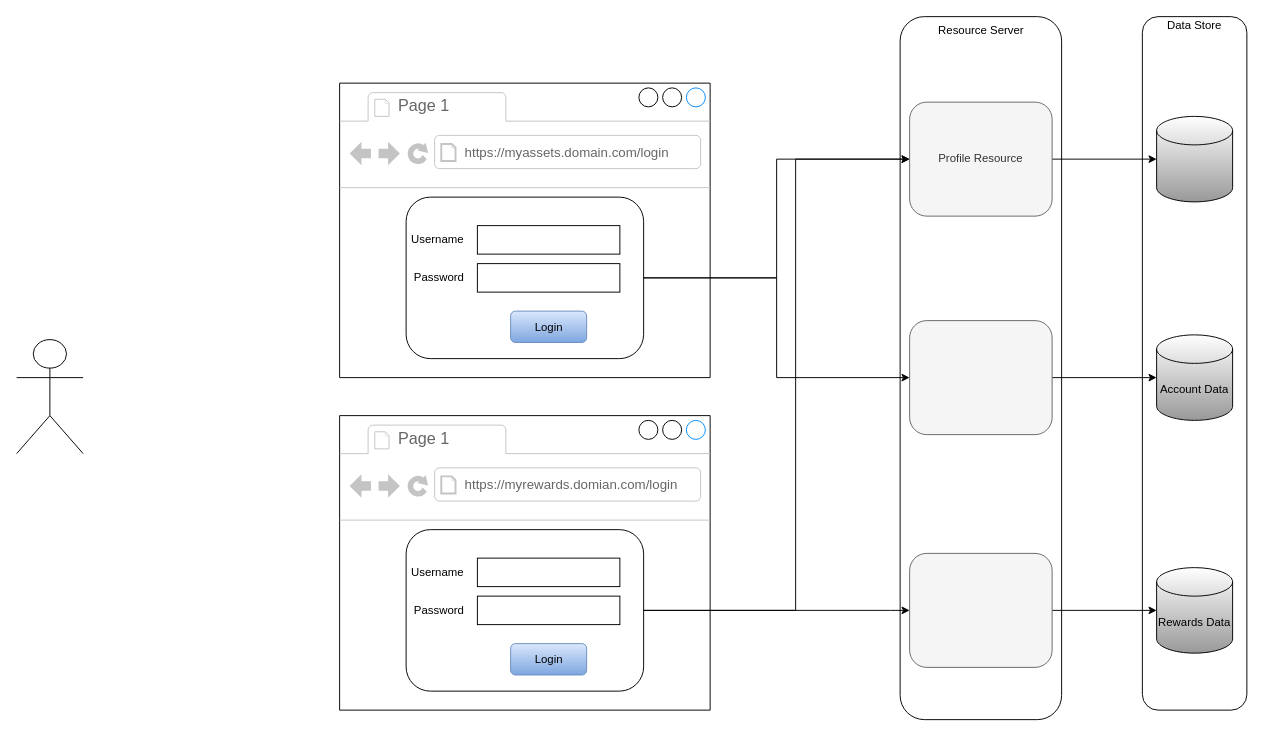
The diagram is 1264 pixels wide and 736 high, and some of its shapes have lost their labels. The shapes that lost their labels are listed below. From the top down, each one's centre as x and y in pixels, then its label:
At (x=1194, y=158): "Profile Data".
At (x=49, y=396): "Actor".
At (x=980, y=377): "Account Resource".
At (x=980, y=609): "Rewards Resource".
